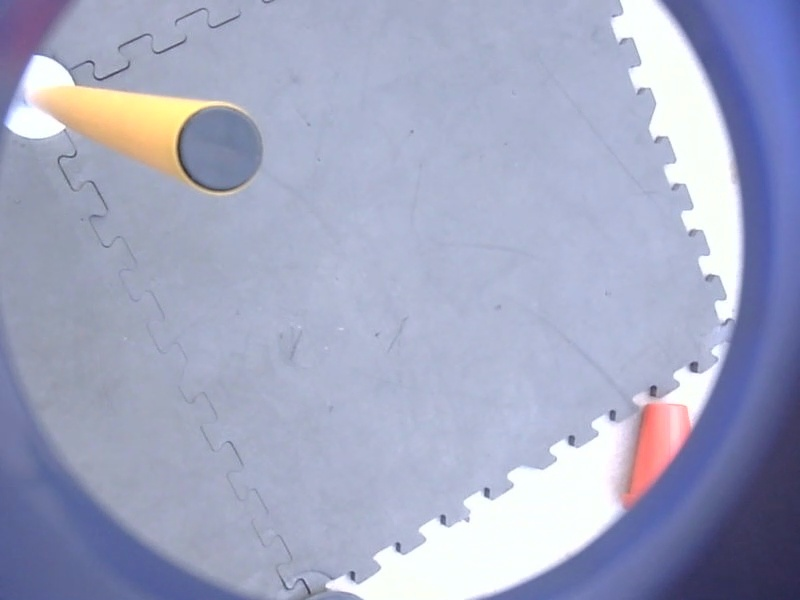tip: (169, 96, 273, 203)
